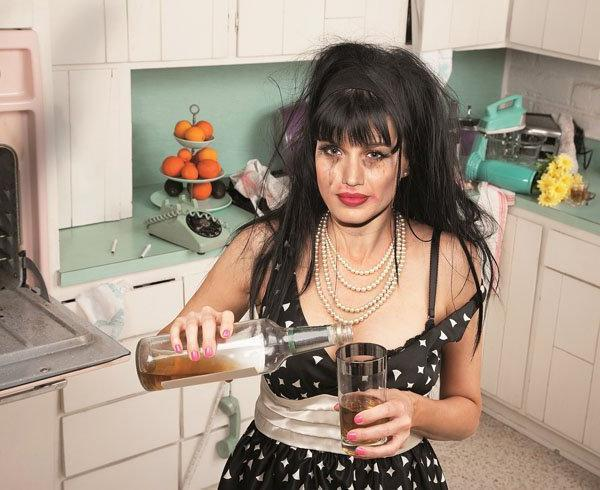Drunk: (315, 122, 398, 223)
